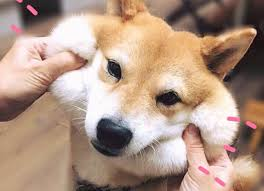dog: (65, 1, 243, 152)
